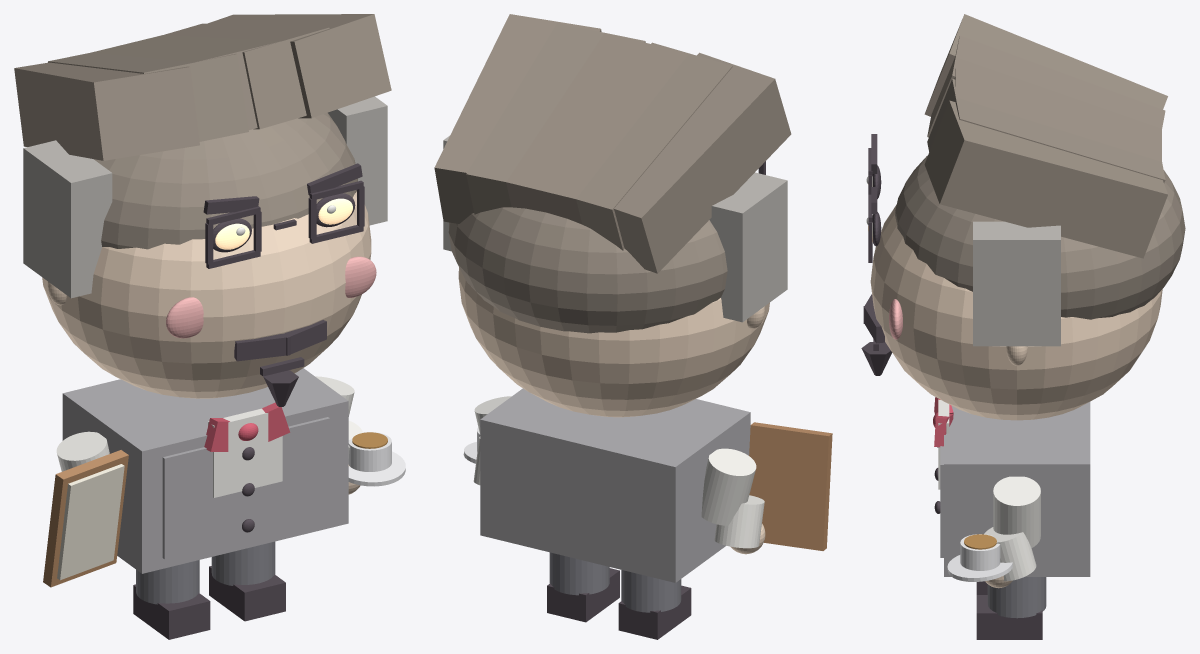
Rendered from gourmet.glb.
The picture shows the model from 3 angles, left to right: view 1: azimuth 30°, elevation 25°; view 2: azimuth 150°, elevation 25°; view 3: azimuth 270°, elevation 25°; orthographic projection. The views are drawn at different scales.
Visible parts, largest first — view 1: Head, Coat, HairCap, Sweep_0, CoatFront, SideGrey_L, Sweep_4, Sweep_3, Sweep_1, MenuPage, SideGrey_R, ShirtV (+20 smaller); view 2: Coat, HairCap, Head, Sweep_0, Sweep_2, MenuBook, Sweep_3, SideGrey_L, Sweep_1, Sweep_4, UpperArm_L, Leg_L (+4 smaller); view 3: Head, Sweep_4, Coat, HairCap, SideGrey_R, Sweep_2, Sweep_1, Sweep_0, Sweep_3, UpperArm_R, Leg_R, Shoe_R (+6 smaller).
Boxes of the visible parts, x1,y1,x2,y2 form: Head: [42, 191, 371, 398]; Coat: [62, 368, 348, 573]; HairCap: [94, 113, 357, 249]; Sweep_0: [14, 62, 199, 160]; CoatFront: [162, 417, 329, 559]; SideGrey_L: [23, 140, 112, 298]; Sweep_4: [208, 14, 391, 118]; Sweep_3: [164, 23, 329, 129]; Sweep_1: [48, 53, 248, 141]; MenuPage: [57, 464, 124, 580]; SideGrey_R: [328, 96, 387, 225]; ShirtV: [208, 408, 282, 497]; Coat: [480, 388, 750, 582]; HairCap: [448, 207, 727, 333]; Head: [458, 267, 769, 417]; Sweep_0: [614, 52, 791, 273]; Sweep_2: [506, 33, 688, 224]; MenuBook: [749, 422, 832, 550]; Sweep_3: [466, 23, 645, 214]; SideGrey_L: [709, 172, 787, 322]; Sweep_1: [576, 42, 732, 250]; Sweep_4: [434, 14, 601, 223]; UpperArm_L: [701, 448, 756, 525]; Leg_L: [621, 570, 681, 612]; Head: [870, 205, 1162, 420]; Sweep_4: [924, 100, 1167, 258]; Coat: [944, 402, 1090, 576]; HairCap: [895, 155, 1185, 319]; SideGrey_R: [973, 221, 1060, 346]; Sweep_2: [954, 57, 1161, 161]; Sweep_1: [927, 35, 1165, 137]; Sweep_0: [924, 14, 1167, 116]; Sweep_3: [927, 79, 1165, 183]; UpperArm_R: [993, 476, 1040, 547]; Leg_R: [987, 577, 1046, 618]; Shoe_R: [976, 595, 1042, 639].
Size of the model in its own units: 1.32 by 2 by 1.09.
